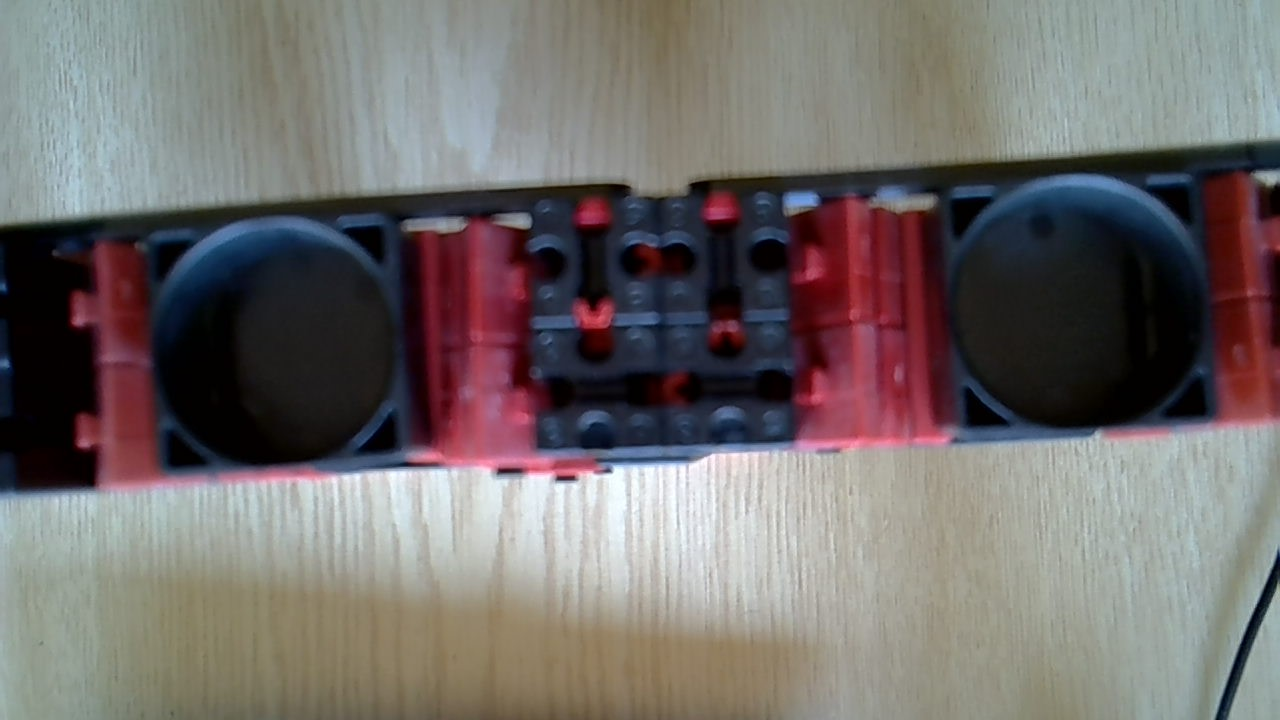Behaelter: (935, 175, 1203, 443), (144, 224, 419, 467)
